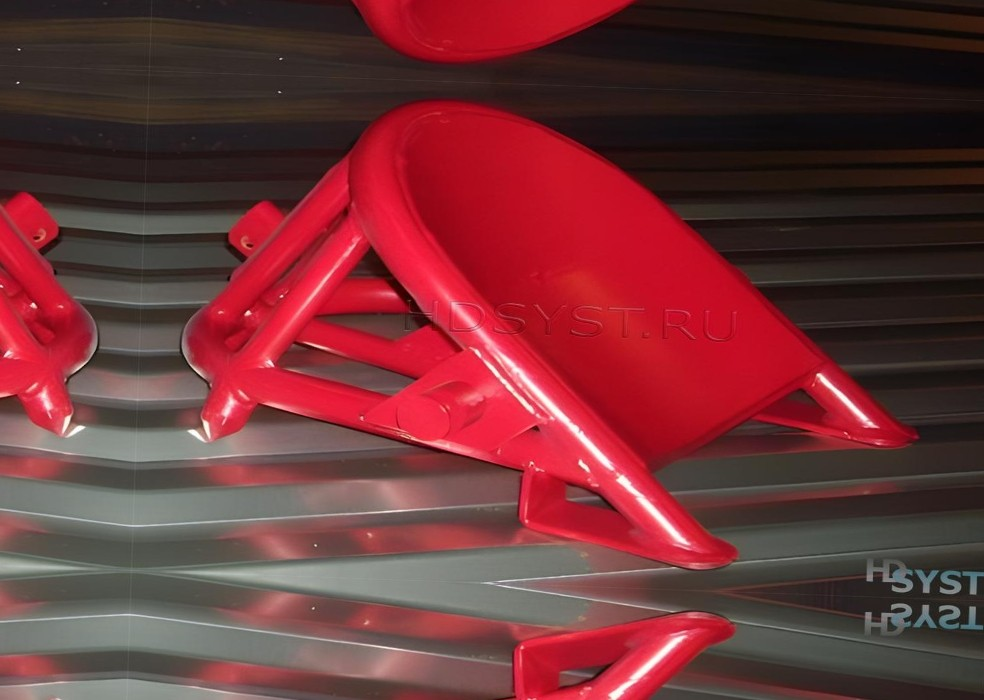chock: (147, 80, 938, 582)
